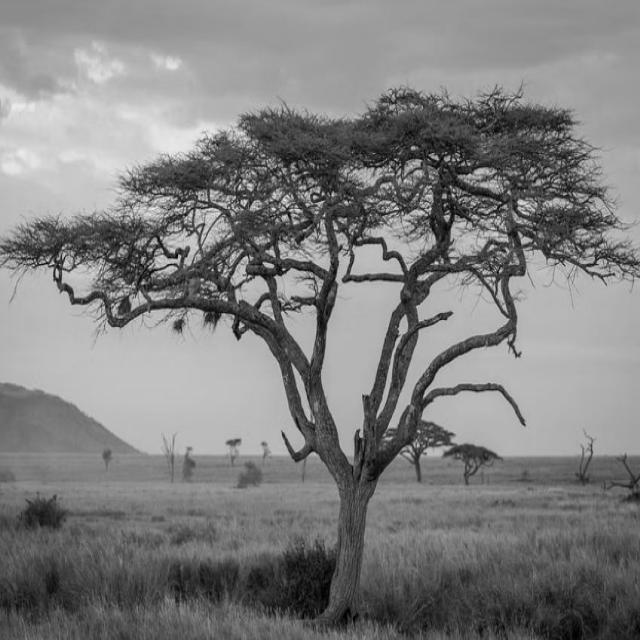Acacia: (5, 59, 633, 563)
